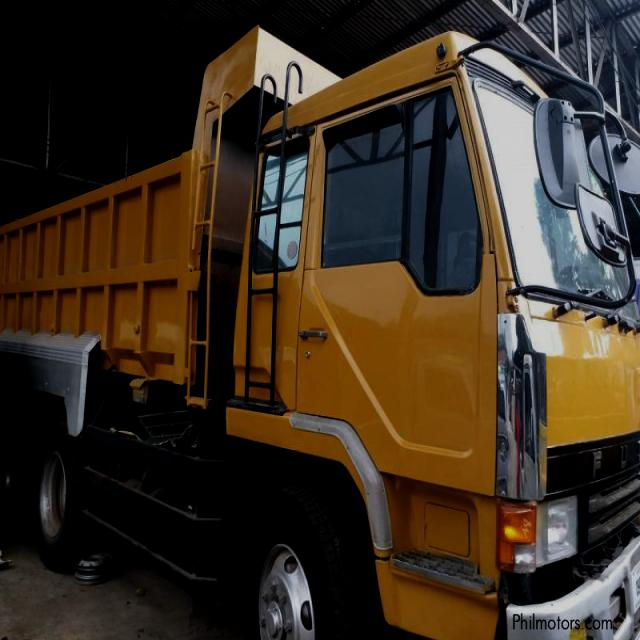truck: (1, 28, 640, 640)
